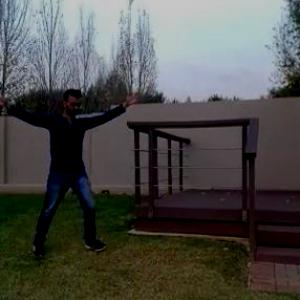takeoff: (0, 86, 144, 254)
